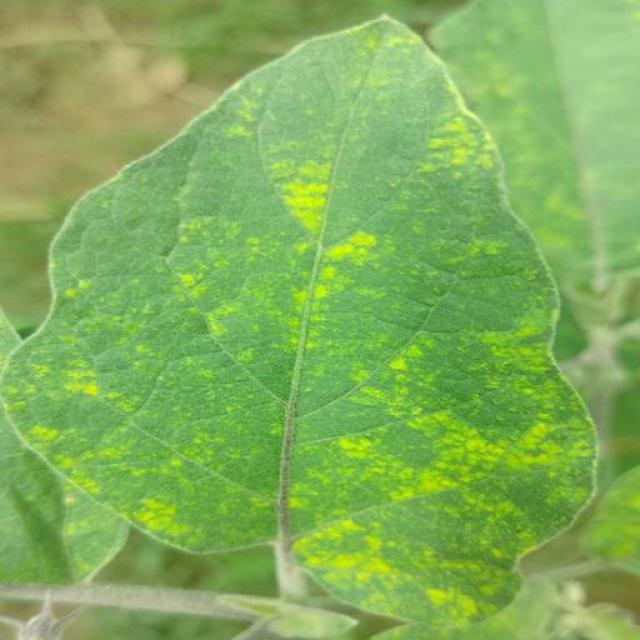leaf_spot: (152, 349, 302, 522), (322, 418, 472, 525), (398, 371, 520, 485), (457, 308, 573, 402), (276, 518, 402, 600), (246, 250, 338, 357), (418, 85, 502, 190), (386, 548, 482, 634), (18, 332, 118, 407), (164, 264, 246, 354), (592, 453, 639, 601), (312, 207, 392, 287), (172, 205, 266, 268), (555, 574, 639, 640), (128, 484, 206, 554), (0, 379, 62, 459), (278, 149, 338, 225), (52, 435, 119, 502), (356, 13, 427, 67), (220, 72, 269, 142), (531, 174, 596, 225), (377, 331, 432, 386), (457, 216, 507, 264), (56, 271, 94, 311)
